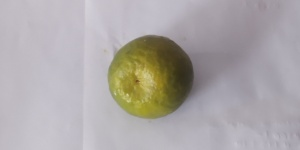BAD: (115, 38, 194, 119)
